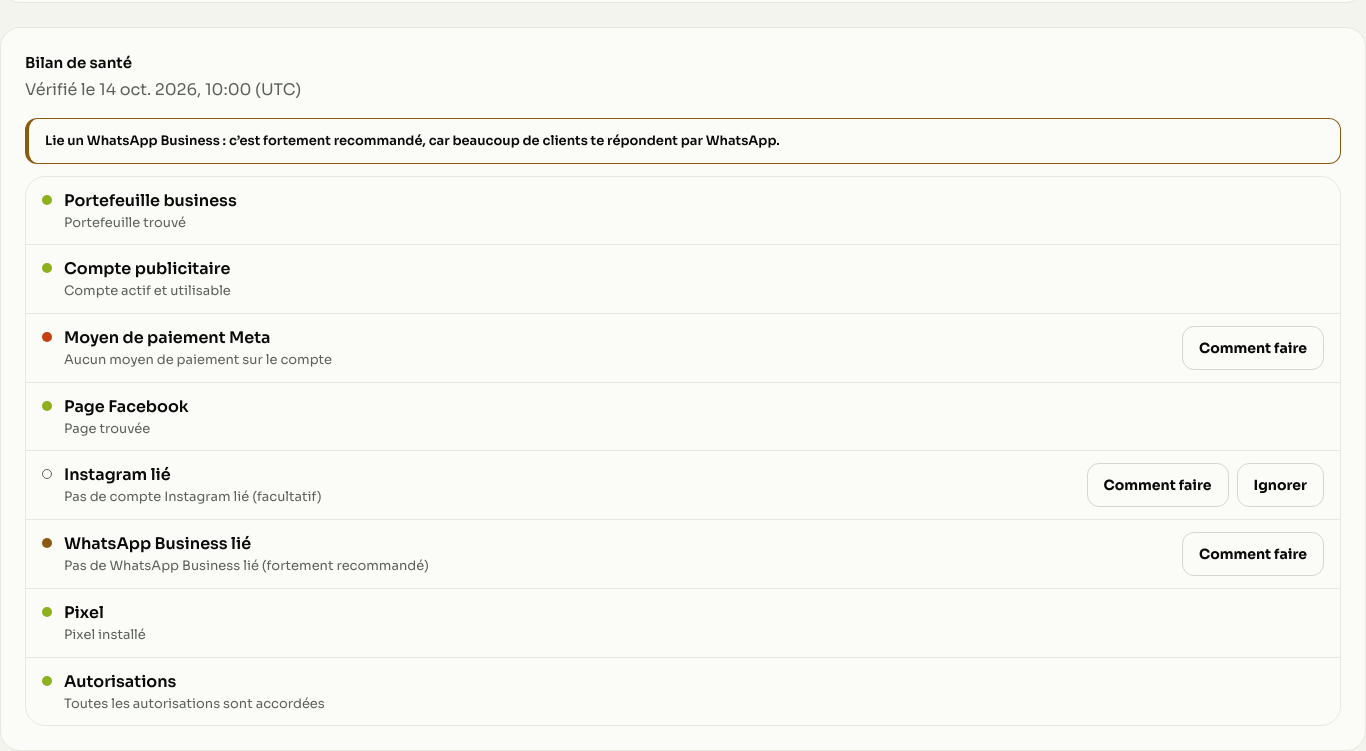
Test case: ConnectionPanel › [Ignorer] un élément facultatif le retire des lignes à corriger
(page scrolled)
Expected: the text "Instagram lié" is shown, [64,464,171,485]
Click the button "Ignorer": [1280, 485] box [1237,463,1324,507]
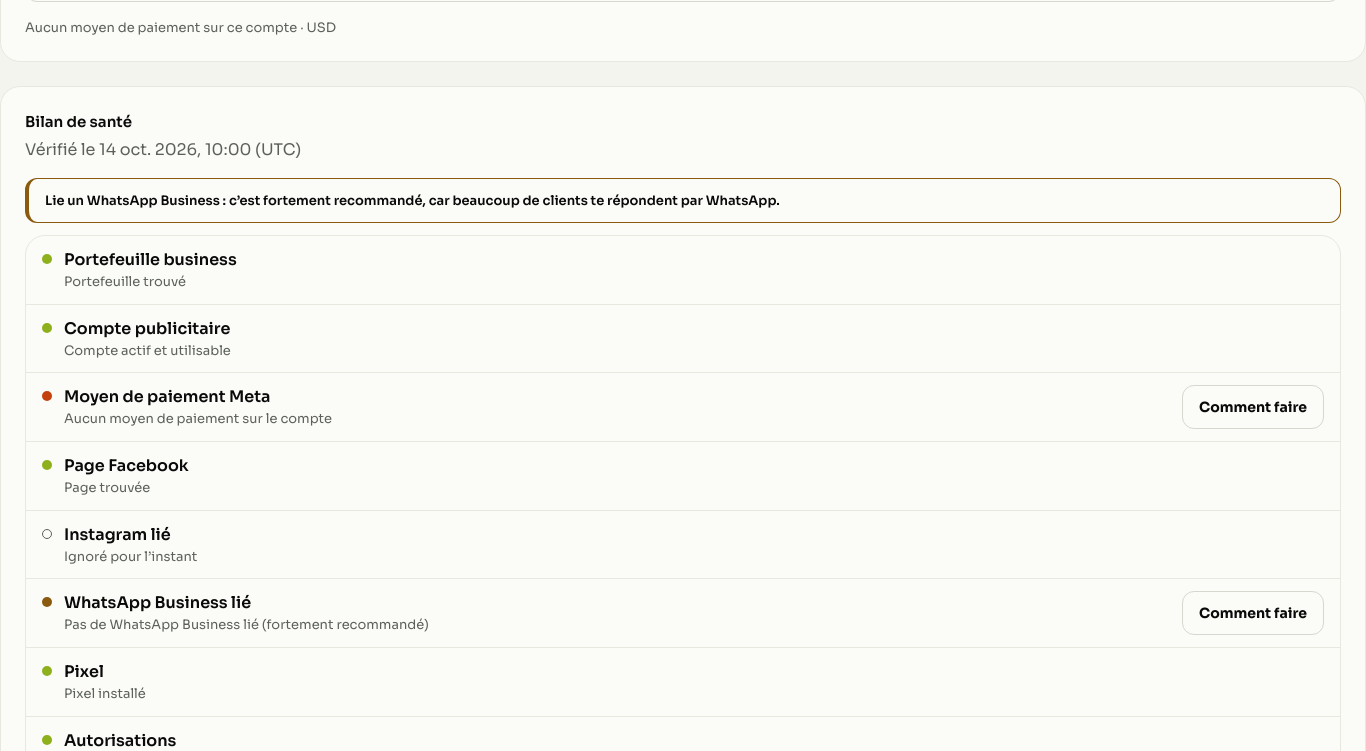
Expected: the number of buttons "Comment faire" is 2, [1182,385,1324,429]; [1182,591,1324,635]
Expected: the text "Ignoré pour l’instant" is shown, [64,546,197,566]
